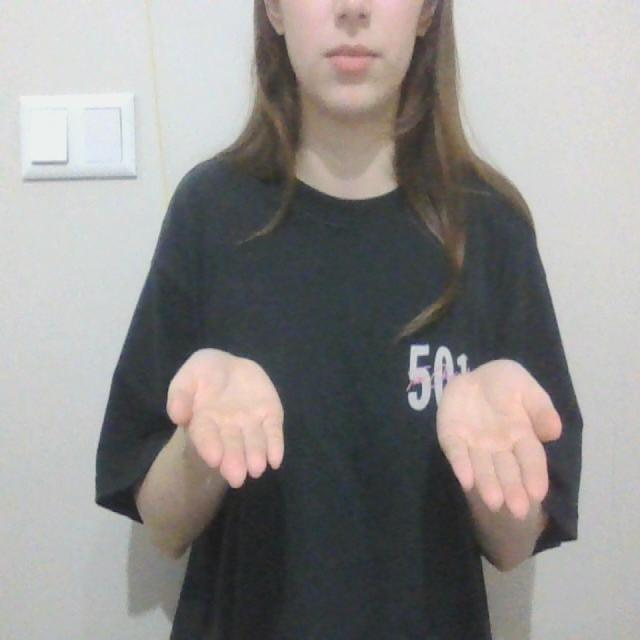Evet: (162, 343, 570, 528)
